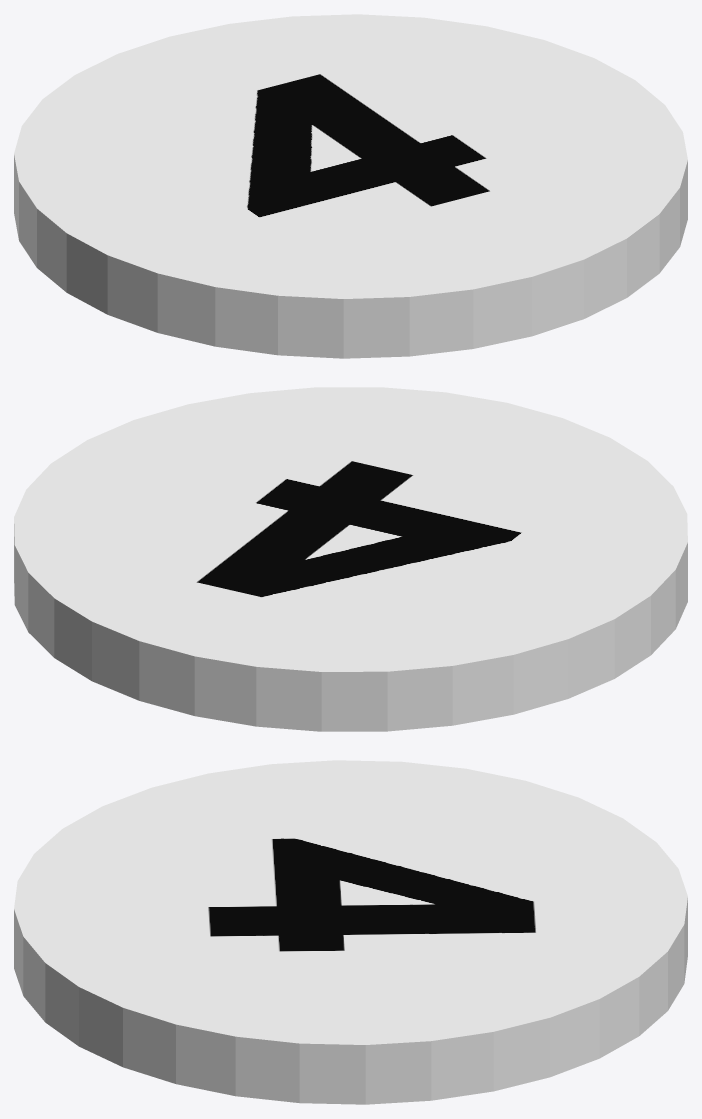
The model's file is Empat.fbx.
The picture shows the model from 3 angles, top to bottom: view 1: azimuth 30°, elevation 25°; view 2: azimuth 150°, elevation 25°; view 3: azimuth 270°, elevation 25°; orthographic projection.
Visible parts, largest first — view 1: Cylinder; view 2: Cylinder; view 3: Cylinder.
Part boxes in pixels (bbox=[...]): Cylinder: bbox=[14, 14, 687, 358]; Cylinder: bbox=[14, 387, 687, 731]; Cylinder: bbox=[14, 760, 687, 1104].
Size of the model in its own units: 243 by 23.72 by 243.
